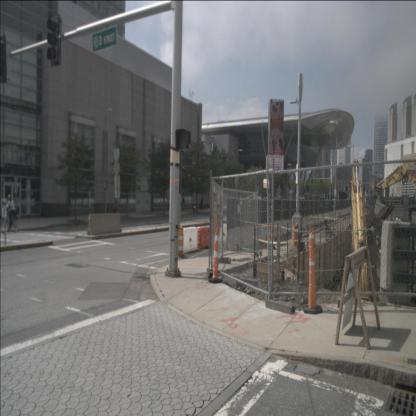human-pedestrian-adult: (201, 198, 203, 210)
movable_object-barrier: (87, 213, 122, 235), (182, 226, 198, 253), (197, 225, 213, 249)
movable_object-trafficcone: (303, 222, 323, 314), (208, 213, 223, 283), (172, 225, 188, 259), (265, 221, 277, 250)
vehicle-bicycle: (2, 194, 19, 234)
vehicle-car: (298, 194, 305, 201)
